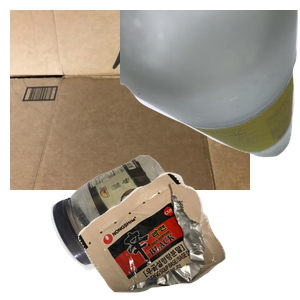cardboard: (10, 10, 250, 190)
glass: (120, 10, 300, 160)
plastic: (48, 152, 228, 300)
trash: (76, 170, 300, 300)
